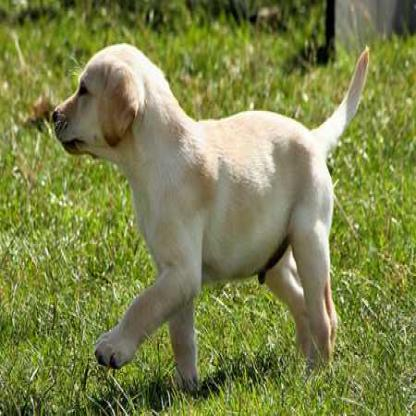Labarador Retriever: (53, 41, 368, 393)
